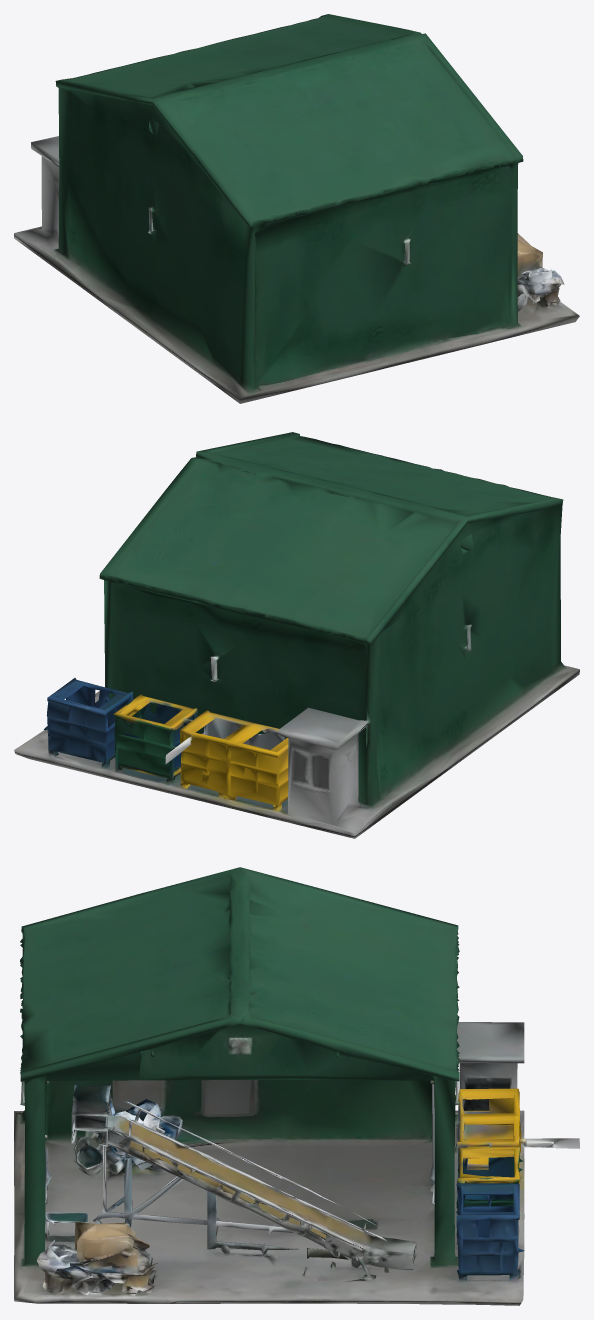
The model's file is recycling_center.glb.
The picture shows the model from 3 angles, top to bottom: view 1: azimuth 30°, elevation 25°; view 2: azimuth 150°, elevation 25°; view 3: azimuth 270°, elevation 25°; orthographic projection. The views are drawn at different scales.
Parts seen in each view (by area): view 1: tripo_node_d9d13168-053e-44fe-ab7b-19704474d74f; view 2: tripo_node_d9d13168-053e-44fe-ab7b-19704474d74f; view 3: tripo_node_d9d13168-053e-44fe-ab7b-19704474d74f.
Boxes of the visible parts, x1,y1,x2,y2 form: tripo_node_d9d13168-053e-44fe-ab7b-19704474d74f: (14, 14, 579, 403); tripo_node_d9d13168-053e-44fe-ab7b-19704474d74f: (14, 432, 579, 838); tripo_node_d9d13168-053e-44fe-ab7b-19704474d74f: (14, 867, 579, 1305).
Size of the model in its own units: 0.7905 by 0.5011 by 0.9998.
1 material, 1 textured.
